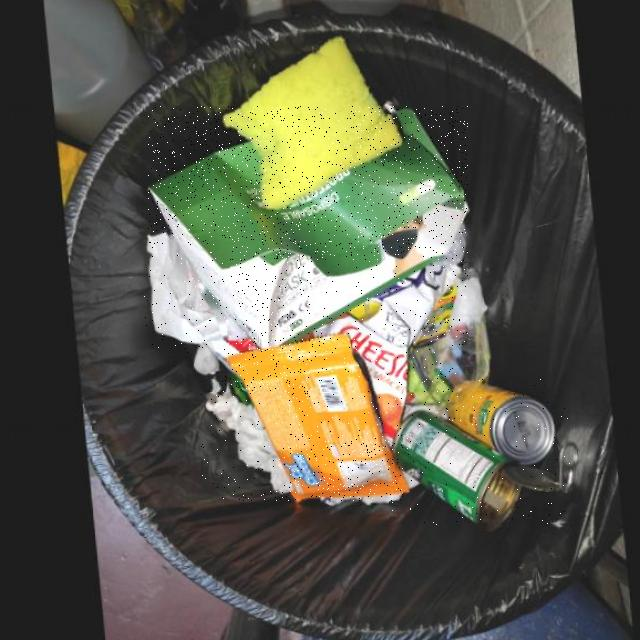metal: (390, 409, 575, 525), (441, 377, 551, 463)
paper: (148, 107, 468, 347), (145, 231, 230, 353), (202, 393, 288, 491)
wrapper: (223, 334, 403, 501), (311, 261, 459, 435), (411, 283, 454, 339)
